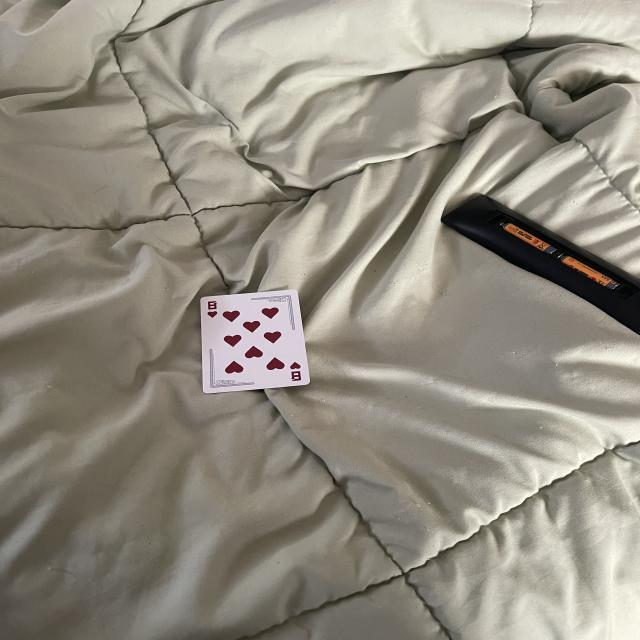8 of hearts: (200, 291, 309, 395)
